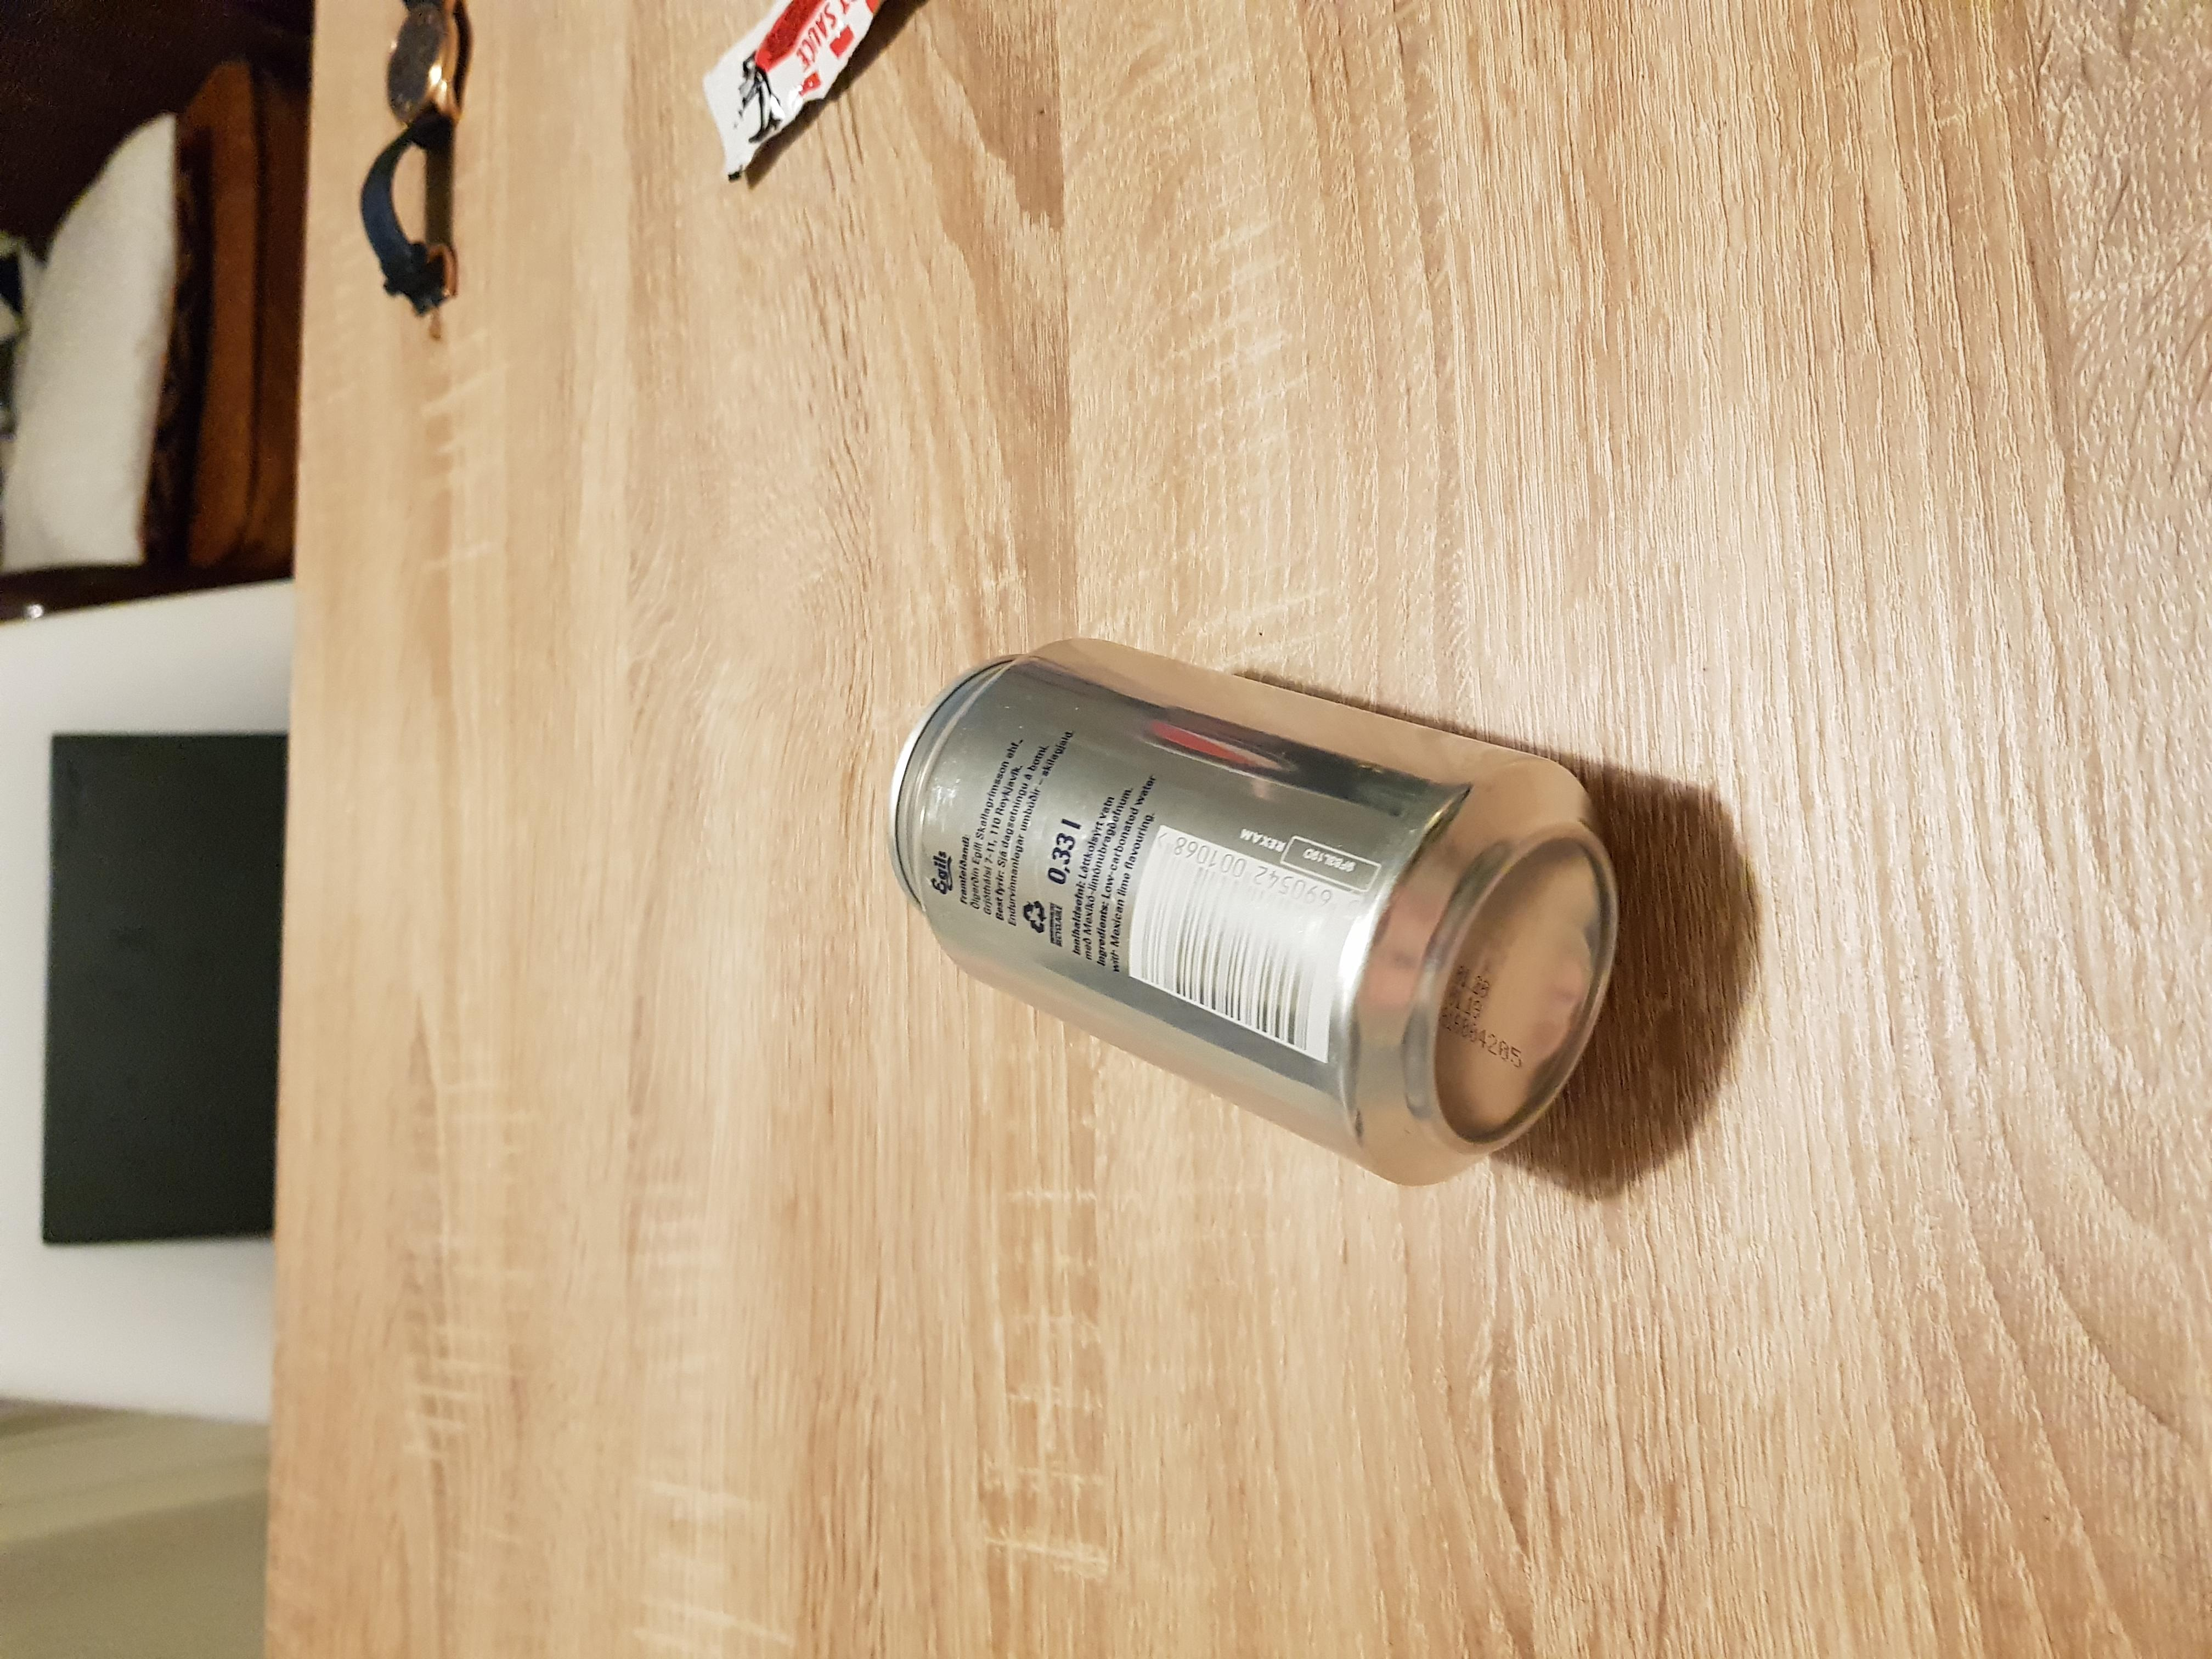can: (873, 629, 1620, 1180)
